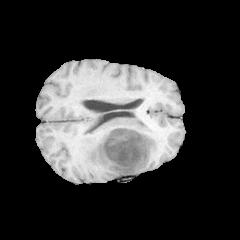glioma: (77, 114, 163, 179)
